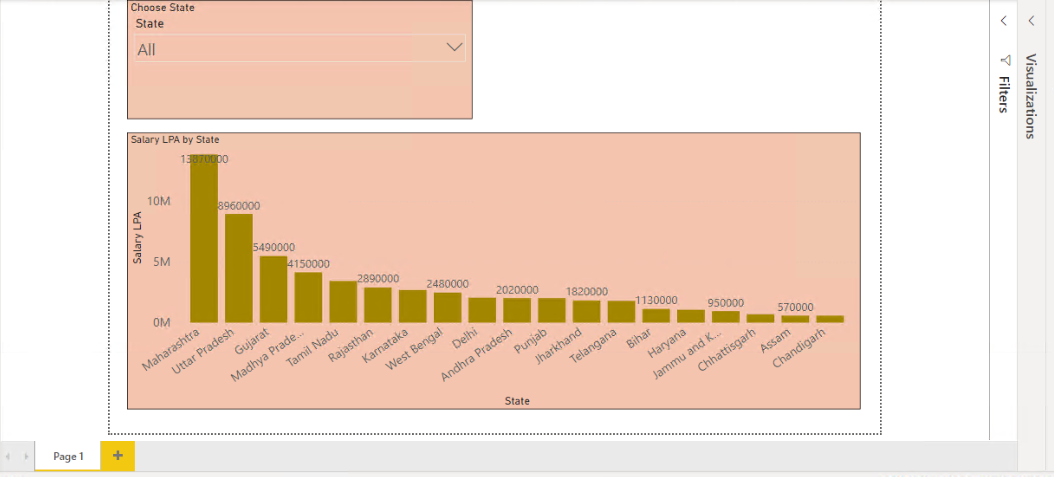

What the dashboard file says about the page in this screenshot:
{"tool":"powerbi","page":{"name":"Page 1","canvas":[1280,720],"ordinal":0},"visuals":[{"type":"columnChart","fields":{"Category":["Employee Data.State"],"Y":["Sum(Employee Data.Salary LPA)"]},"box":[28.4,219.6,1219.4,460.1],"z":0},{"type":"slicer","title":"Choose State","fields":{"Values":["Employee Data.State"]},"box":[28.6,0,574.2,198.4],"z":1}]}

Visuals, with their boxes in screenshot pixels (x1, y1, x2, y2):
columnChart - Employee Data.State x Sum(Employee Data.Salary LPA): 123:133:921:434
"Choose State" slicer: 123:0:499:119
